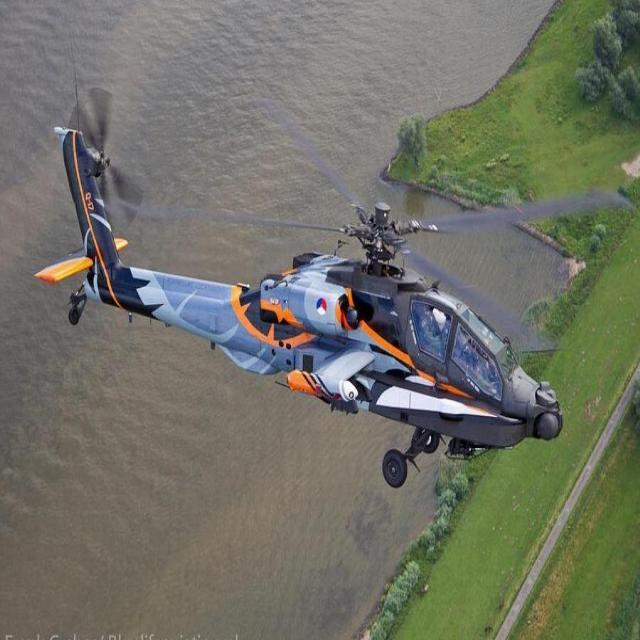MIL_HELO: (32, 82, 626, 487)
